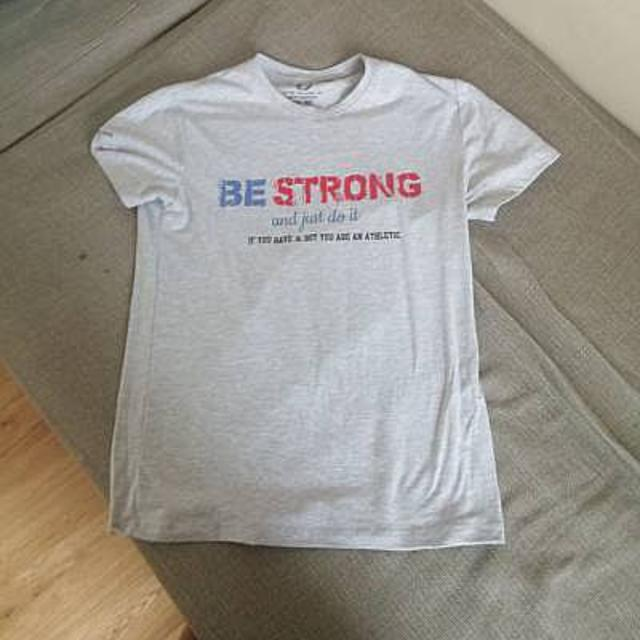T_SHIRT: (76, 49, 566, 557)
